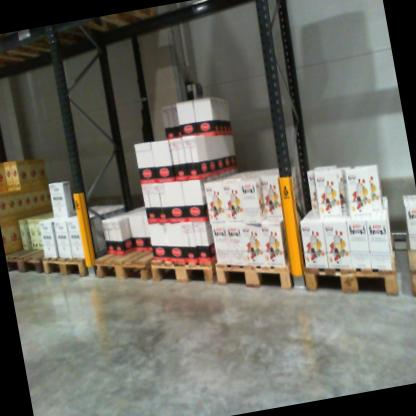pallet: (293, 213, 410, 315), (208, 220, 318, 301), (23, 9, 155, 60), (86, 226, 180, 291), (37, 231, 127, 286), (145, 238, 222, 294), (0, 26, 55, 83), (5, 239, 66, 282), (397, 219, 416, 297)
